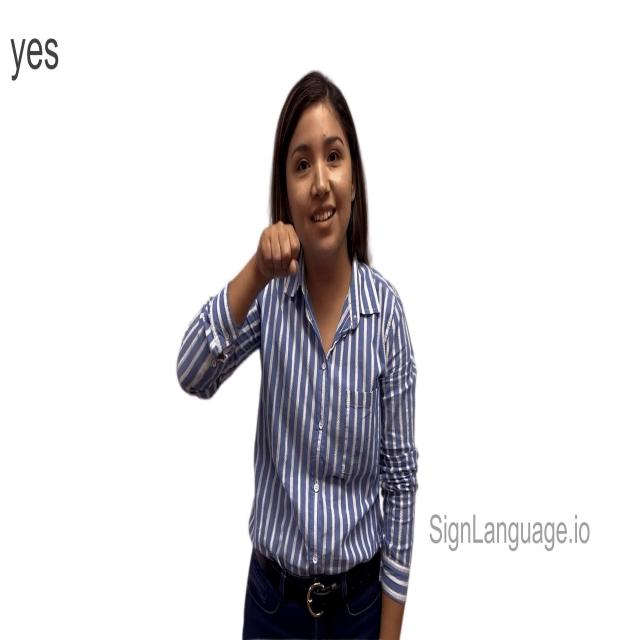yes: (258, 219, 302, 286)
